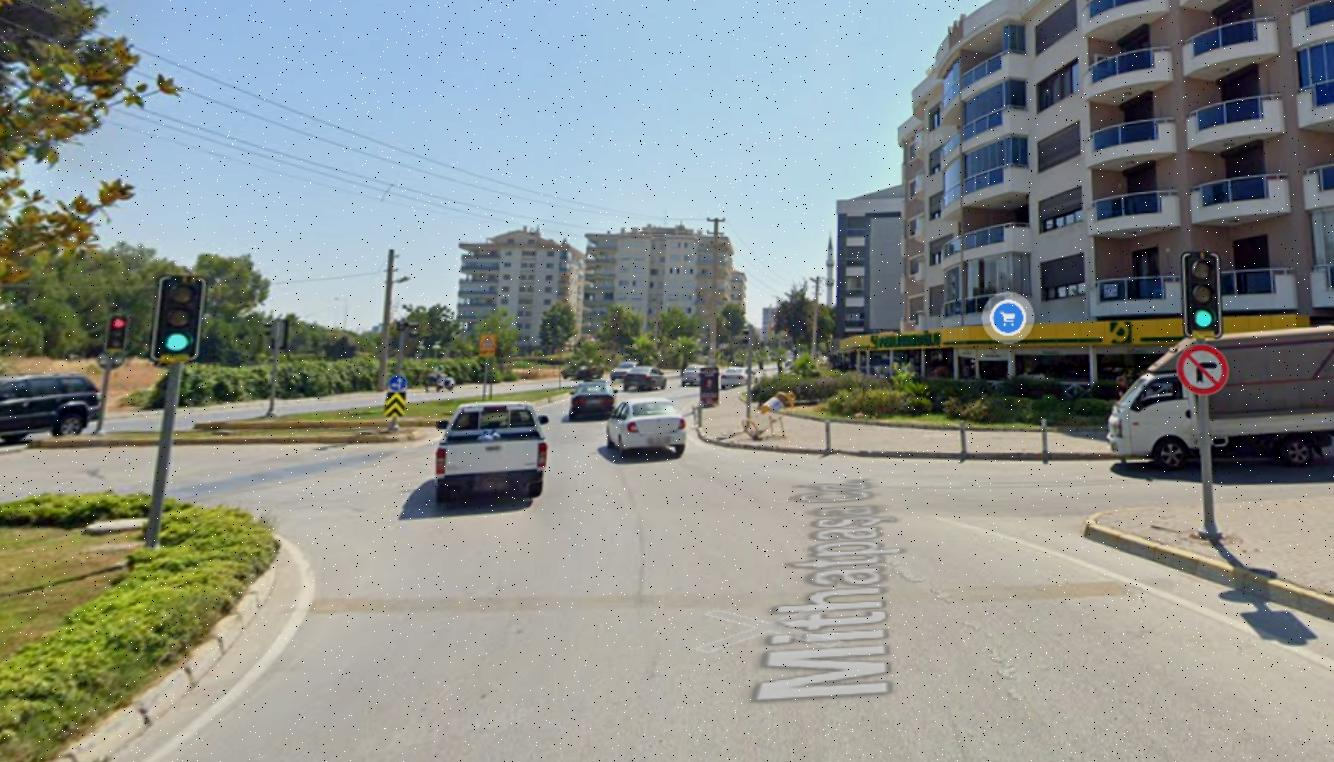greenlight: (157, 275, 203, 357), (1184, 254, 1220, 330)
rightturnsareforbidden: (1182, 345, 1225, 391)
